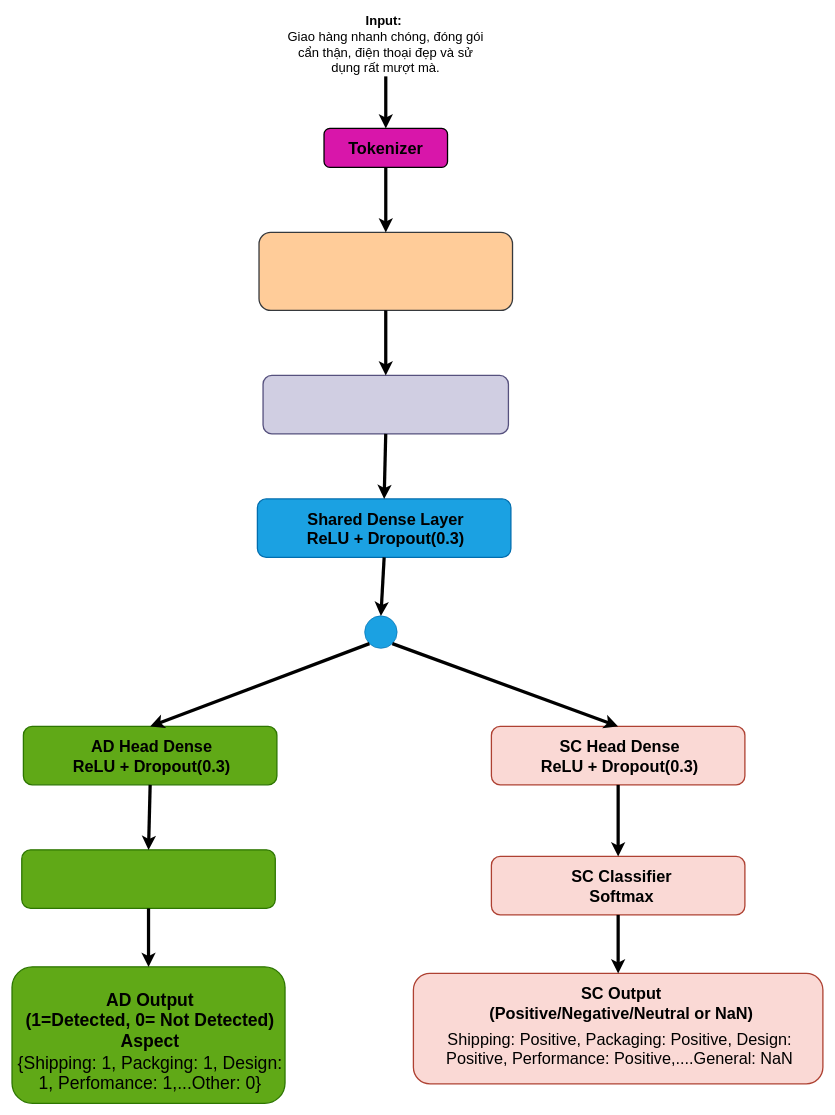
Some shapes in this 835 by 1115 pixel diagram are drawn without their labels. The shapes that lost their labels are listed below. From the top down, each one's centre as x and y in pixels, then its label:
At (x=385, y=271): "VisoBERT-14gb-corpus".
At (x=385, y=404): "[CLS] Tokens".
At (x=148, y=879): "AD Classifier Sigmoid".
